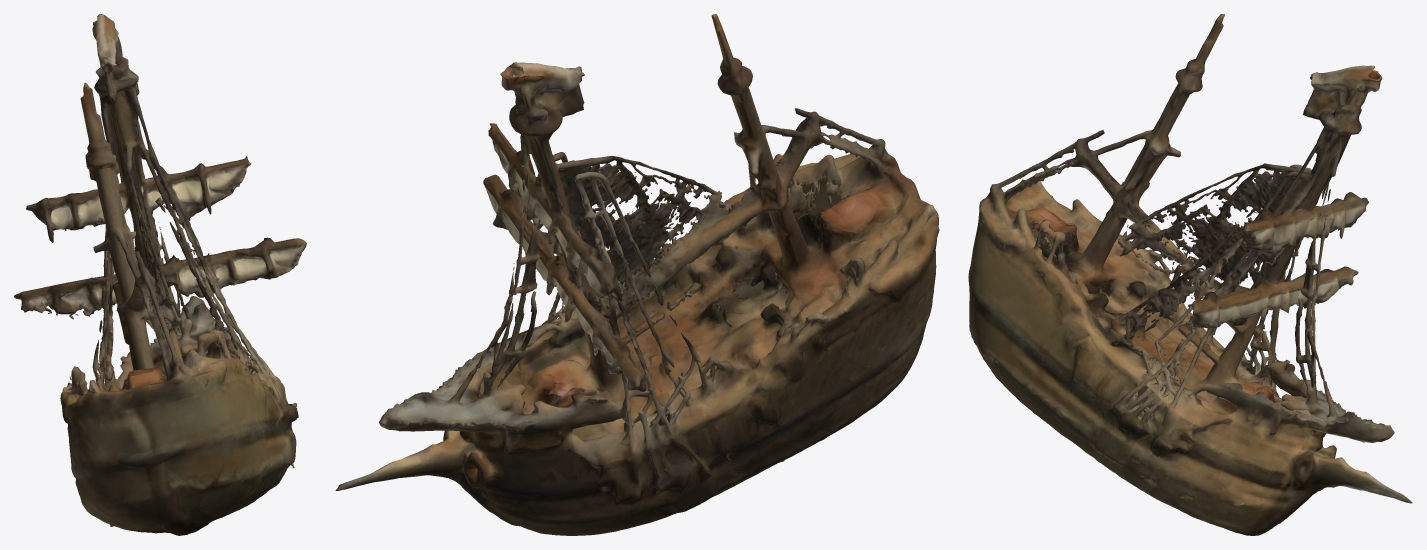
The model's file is pixal3d.glb.
3 renders of one model, left to right at view 1: azimuth 30°, elevation 25°; view 2: azimuth 150°, elevation 25°; view 3: azimuth 270°, elevation 25°, orthographic. The views are drawn at different scales.
Visible parts, largest first — view 1: geometry_0; view 2: geometry_0; view 3: geometry_0.
Part boxes in pixels (x1,y1,x2,y2): geometry_0: [14, 14, 306, 535]; geometry_0: [335, 14, 939, 535]; geometry_0: [968, 14, 1412, 535].
Bounding box in the file's own units: 0.6543 × 0.8844 × 0.7908.
Materials: 1 (1 with a texture image).
